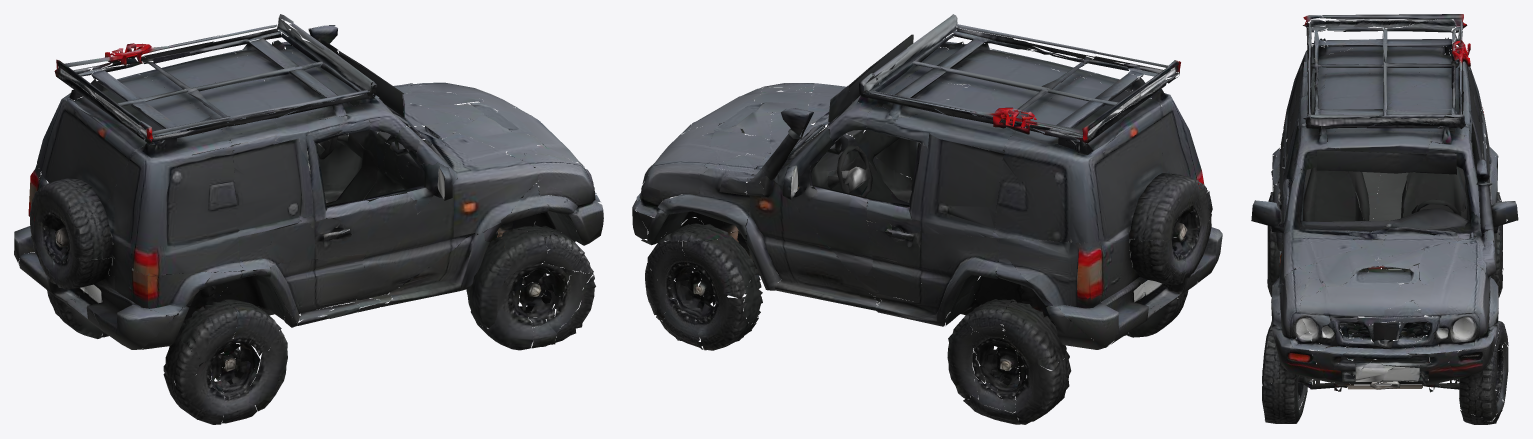
The model's file is terrano.glb.
The picture shows the model from 3 angles, left to right: view 1: azimuth 30°, elevation 25°; view 2: azimuth 150°, elevation 25°; view 3: azimuth 270°, elevation 25°; orthographic projection. The views are drawn at different scales.
Parts seen in each view (by area): view 1: T_BODY, T_FL, T_RL, T_RR; view 2: T_BODY, T_RR, T_FR, T_RL; view 3: T_BODY, T_FL, T_FR, T_RL, T_RR.
Boxes of the visible parts, box(x1,y1,x2,y2) form: T_BODY: box(14, 14, 603, 423); T_FL: box(466, 225, 595, 350); T_RL: box(163, 286, 287, 424); T_RR: box(47, 244, 108, 338); T_BODY: box(632, 14, 1222, 416); T_RR: box(947, 285, 1071, 424); T_FR: box(645, 218, 762, 350); T_RL: box(1124, 261, 1188, 337); T_BODY: box(1251, 14, 1518, 424); T_FL: box(1262, 318, 1311, 419); T_FR: box(1456, 318, 1508, 417); T_RL: box(1267, 192, 1295, 293); T_RR: box(1474, 192, 1503, 291).
Size of the model in its own units: 4.11 by 2.27 by 2.19.
1 material, 1 textured.
